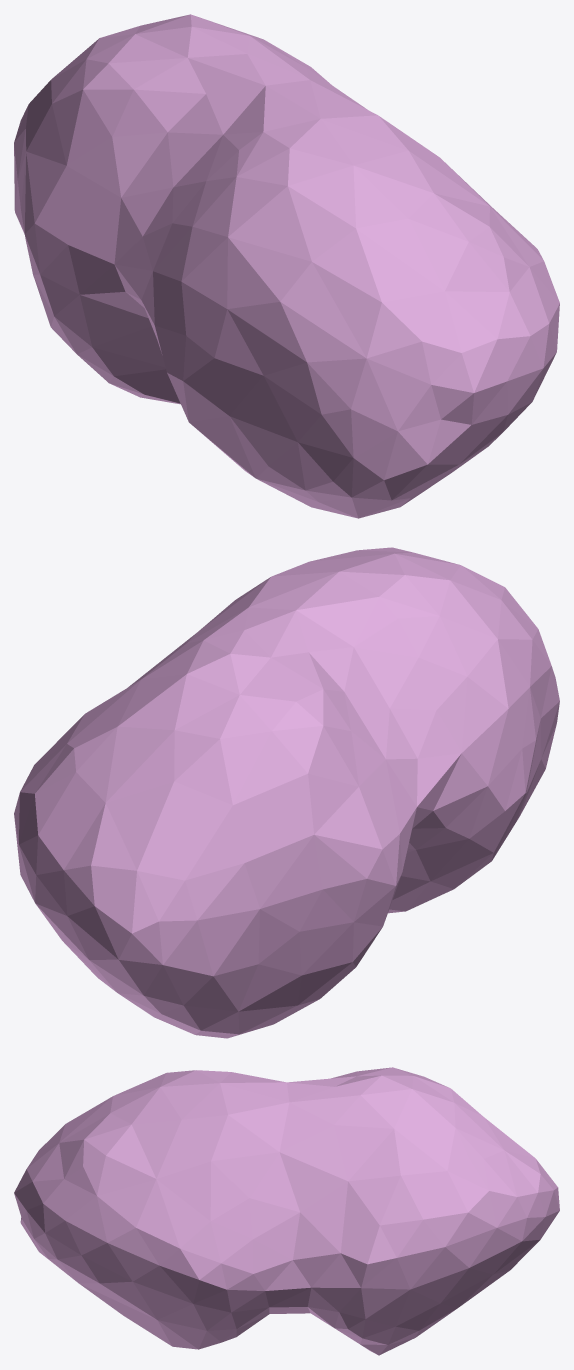
The picture shows the model from 3 angles, top to bottom: view 1: azimuth 30°, elevation 25°; view 2: azimuth 150°, elevation 25°; view 3: azimuth 270°, elevation 25°; orthographic projection. The views are drawn at different scales.
Visible parts, largest first — view 1: 50.obj; view 2: 50.obj; view 3: 50.obj.
Boxes of the visible parts, box(x1,y1,x2,y2) form: 50.obj: box(14, 14, 559, 518); 50.obj: box(14, 547, 559, 1038); 50.obj: box(14, 1067, 559, 1355).
Bounding box in the file's own units: 555 × 544 × 1044.
